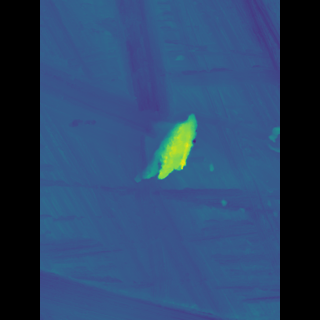Loch: (137, 109, 191, 187)
